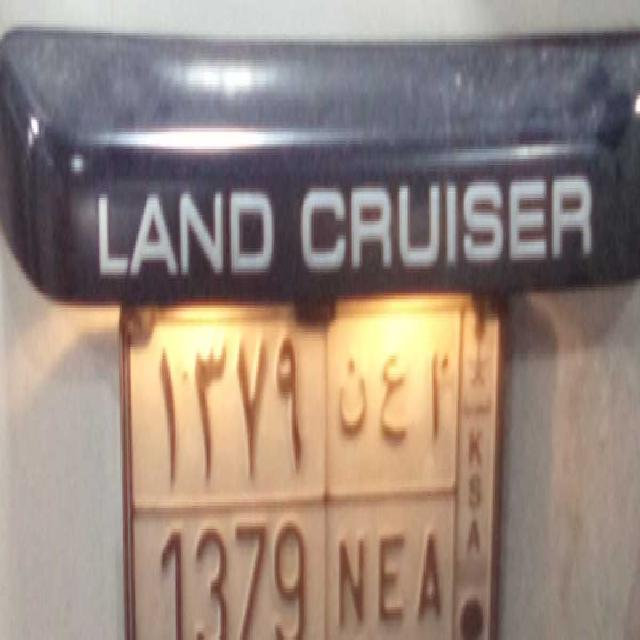license_plate: (133, 503, 454, 640)
